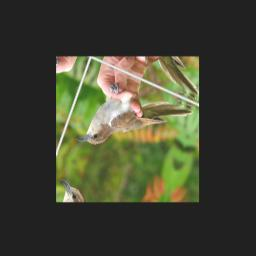Cuckoo: (75, 69, 194, 182)
